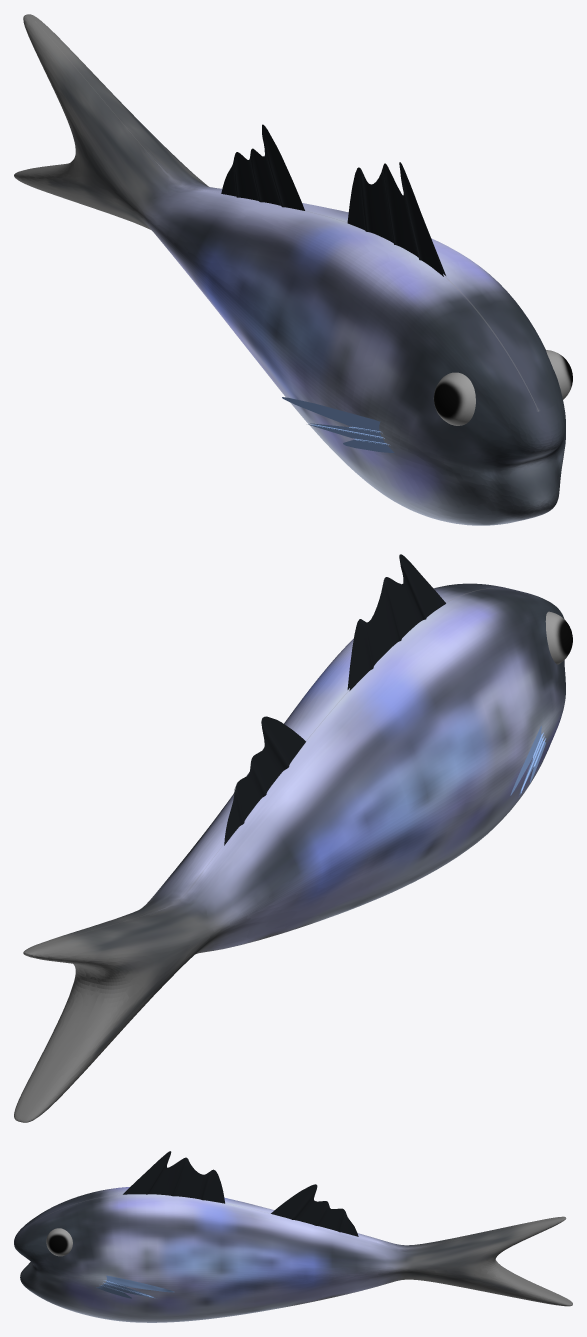
The model's file is sumikuiuo.glb.
3 renders of one model, top to bottom at view 1: azimuth 30°, elevation 25°; view 2: azimuth 150°, elevation 25°; view 3: azimuth 270°, elevation 25°, orthographic. The views are drawn at different scales.
Size of the model in its own units: 3.31 by 4.3 by 13.23.
Materials: 1 (1 with a texture image).
